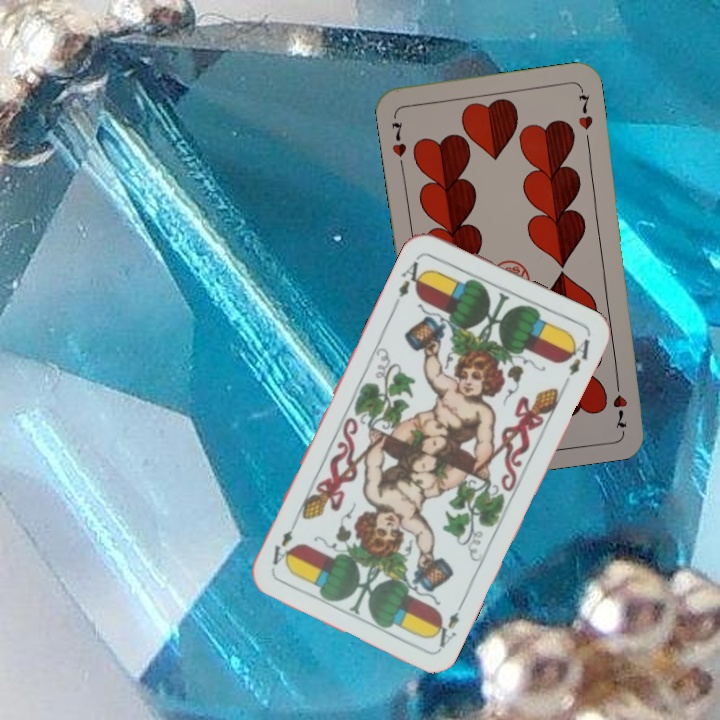EA: (428, 596, 467, 651), (394, 252, 429, 300)
H7: (387, 117, 409, 171), (610, 374, 630, 431)
